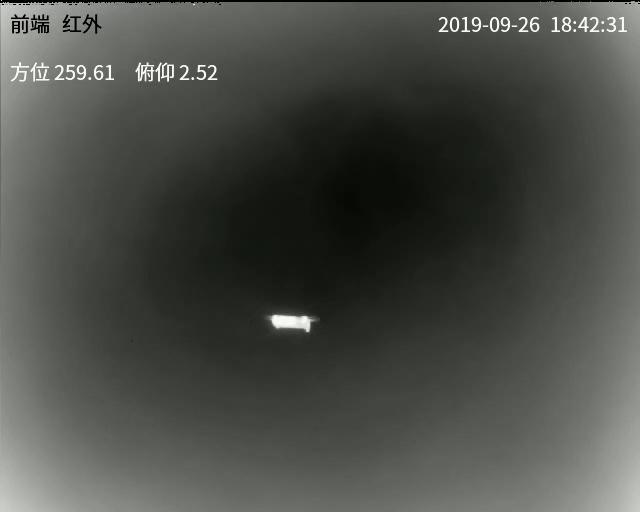uav: (264, 306, 325, 335)
